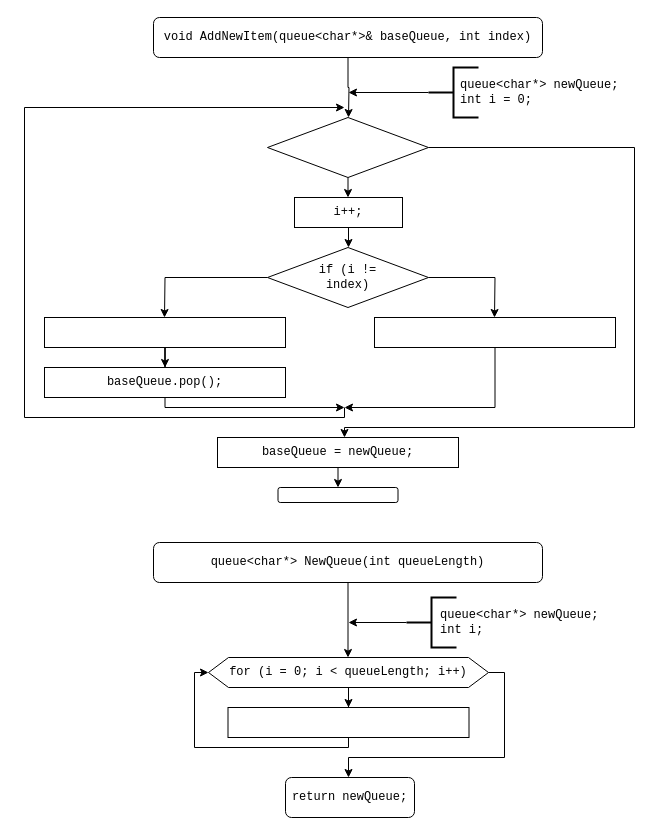
Image size: 660x835. Some labels were removed from this diagram. Each missing label, with the centre of its shape:
newQueue.push("hello");: [348,722]
newQueue.push("KONICHIWA");: [495,332]
newQueue.push(baseQueue.front());: [165,332]
while ( !baseQueue. empty()): [347,147]
